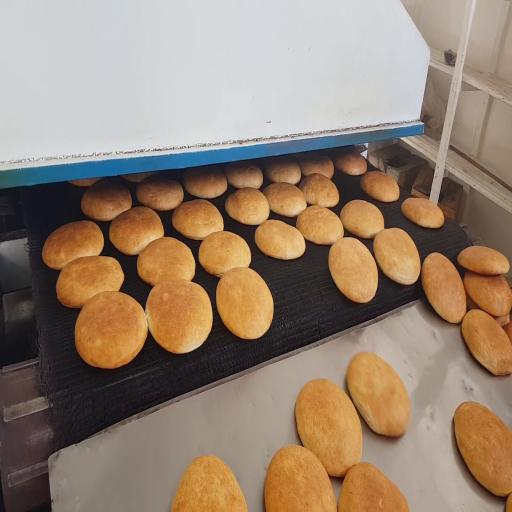bread: (295, 379, 362, 476), (75, 292, 147, 368), (454, 402, 511, 496), (347, 352, 410, 436), (146, 278, 212, 353), (265, 446, 336, 511), (171, 456, 247, 511), (216, 268, 273, 339), (56, 256, 124, 308), (338, 463, 409, 511), (462, 310, 511, 375), (329, 238, 378, 303), (421, 253, 466, 323), (42, 221, 103, 270), (373, 228, 421, 285), (137, 238, 195, 285), (109, 207, 164, 255), (199, 231, 251, 277), (464, 271, 511, 316), (81, 179, 131, 221), (172, 200, 223, 239), (255, 220, 305, 259), (296, 205, 343, 245), (136, 174, 183, 210), (340, 200, 384, 238), (225, 188, 269, 225), (264, 183, 307, 217), (458, 246, 509, 274), (183, 166, 227, 198), (300, 174, 339, 207), (402, 198, 444, 228), (360, 172, 399, 202), (264, 156, 301, 184), (225, 162, 263, 188), (299, 155, 333, 178), (333, 152, 366, 175), (122, 172, 157, 182), (69, 178, 101, 187), (467, 293, 481, 310), (503, 322, 511, 343), (506, 494, 511, 511)
